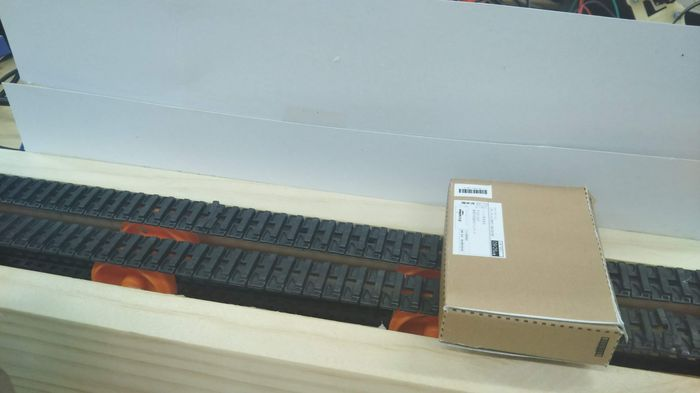box2: (435, 172, 628, 371)
